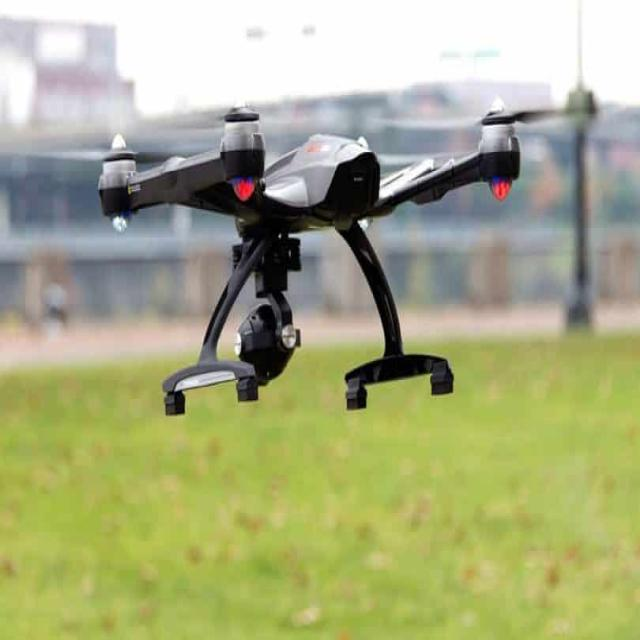drone: (26, 93, 600, 419)
